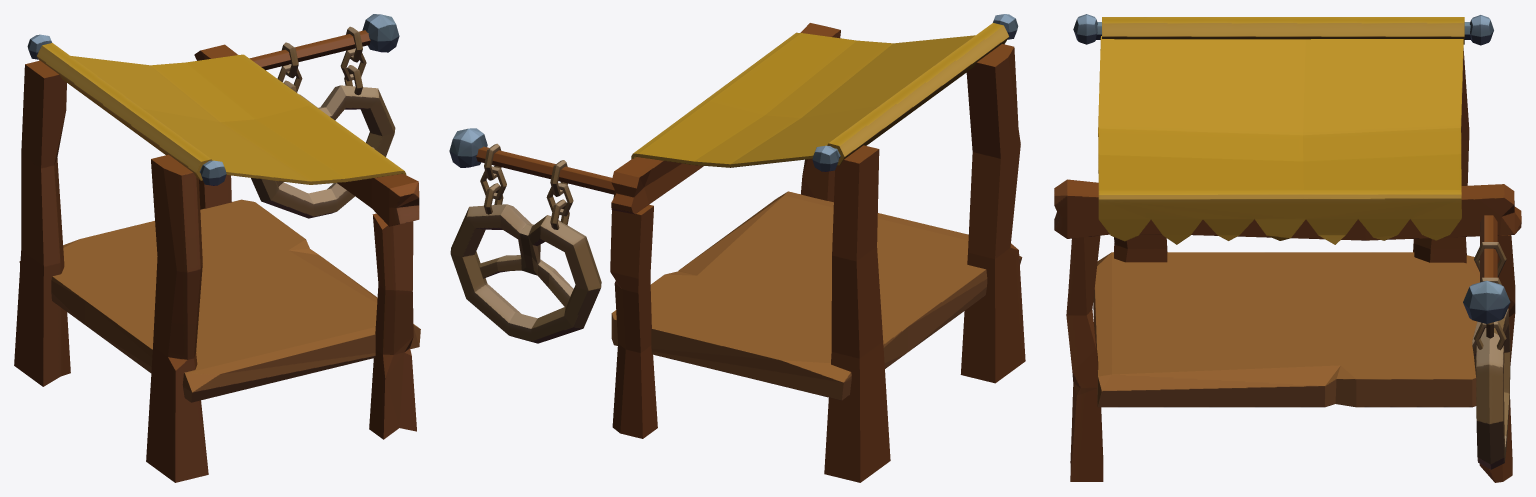
The model's file is Caseta04.fbx.
3 views of the same model, side by side, from view 1: azimuth 30°, elevation 25°; view 2: azimuth 150°, elevation 25°; view 3: azimuth 270°, elevation 25° (orthographic). The views are drawn at different scales.
Parts seen in each view (by area): view 1: tent02; view 2: tent02; view 3: tent02.
Part boxes in pixels (x1,y1,x2,y2): tent02: [14, 14, 420, 482]; tent02: [449, 14, 1025, 482]; tent02: [1054, 14, 1521, 482].
Size of the model in its own units: 3.74 by 2.97 by 3.42.
Materials: 1 (1 with a texture image).
